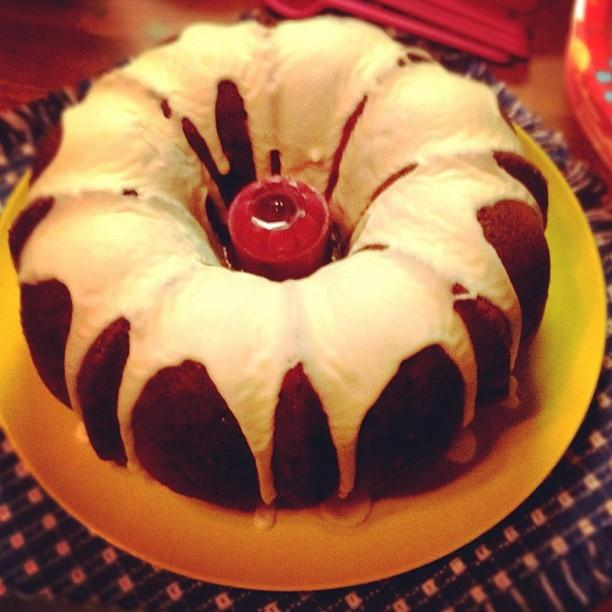cherry: (227, 174, 331, 281)
